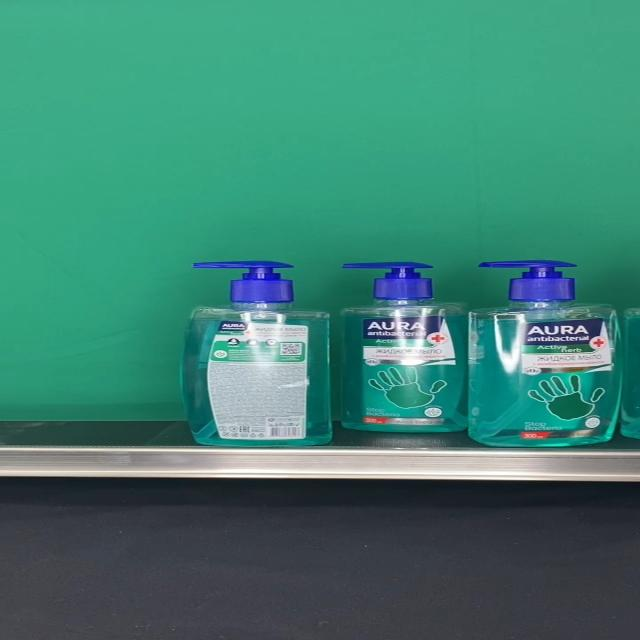Bottle: (178, 260, 332, 448), (470, 260, 622, 447), (332, 262, 470, 432)
Cap: (193, 260, 294, 302), (477, 260, 578, 302), (338, 262, 434, 300)
